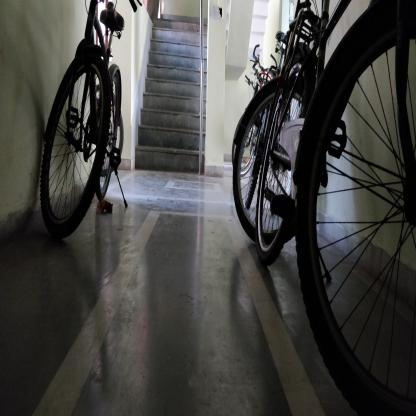stairs: (154, 18, 198, 179)
